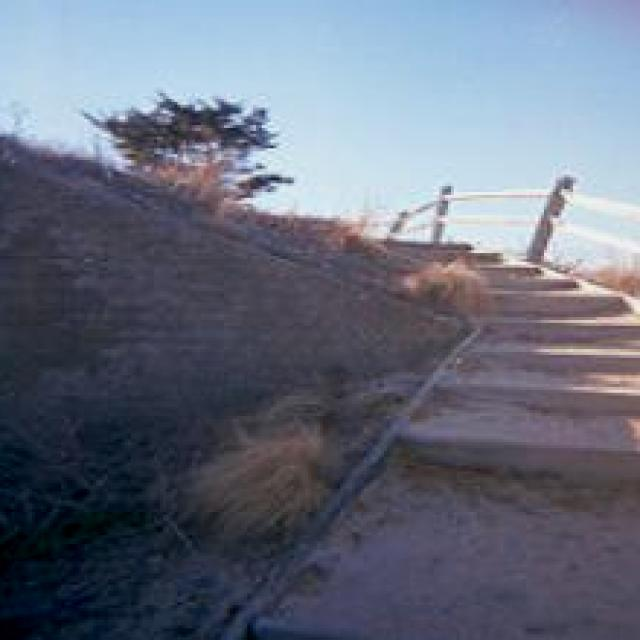upstair: (367, 210, 640, 454)
